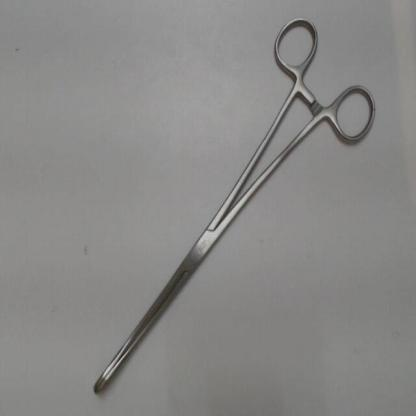Sponge Forceps: (87, 8, 383, 403)
